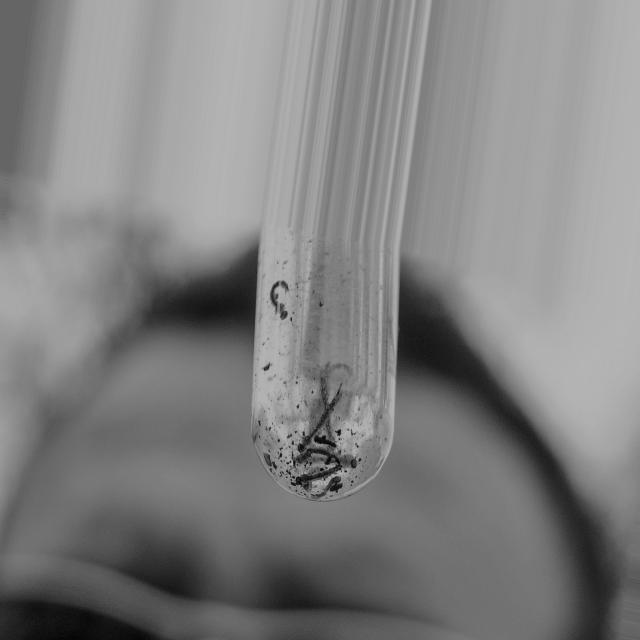larvas: (298, 384, 347, 453), (270, 278, 288, 319), (298, 466, 340, 482), (316, 477, 340, 500), (325, 359, 356, 374), (294, 451, 332, 462), (320, 366, 329, 405), (315, 436, 337, 448), (340, 454, 357, 469)
